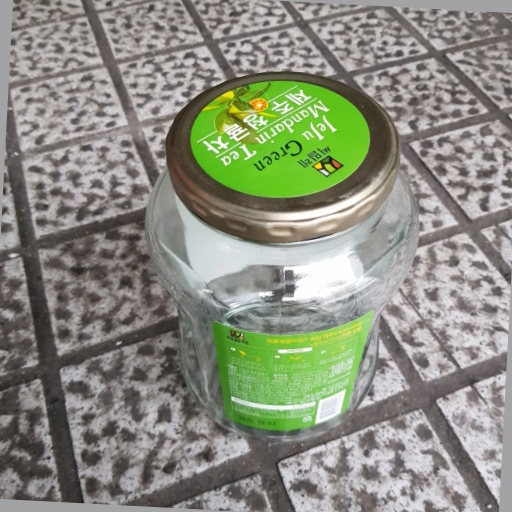Glass_5: (142, 66, 423, 439)
